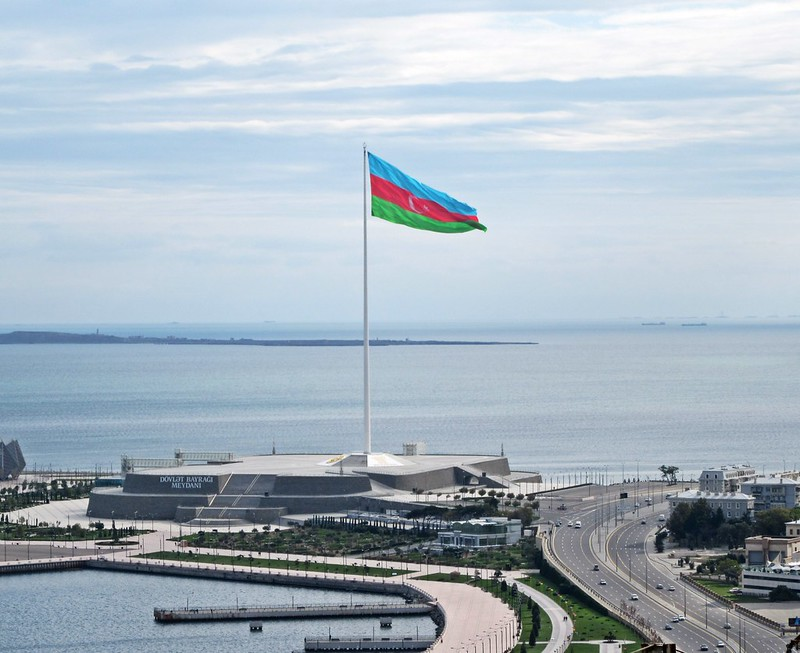Flag: (364, 152, 486, 235)
